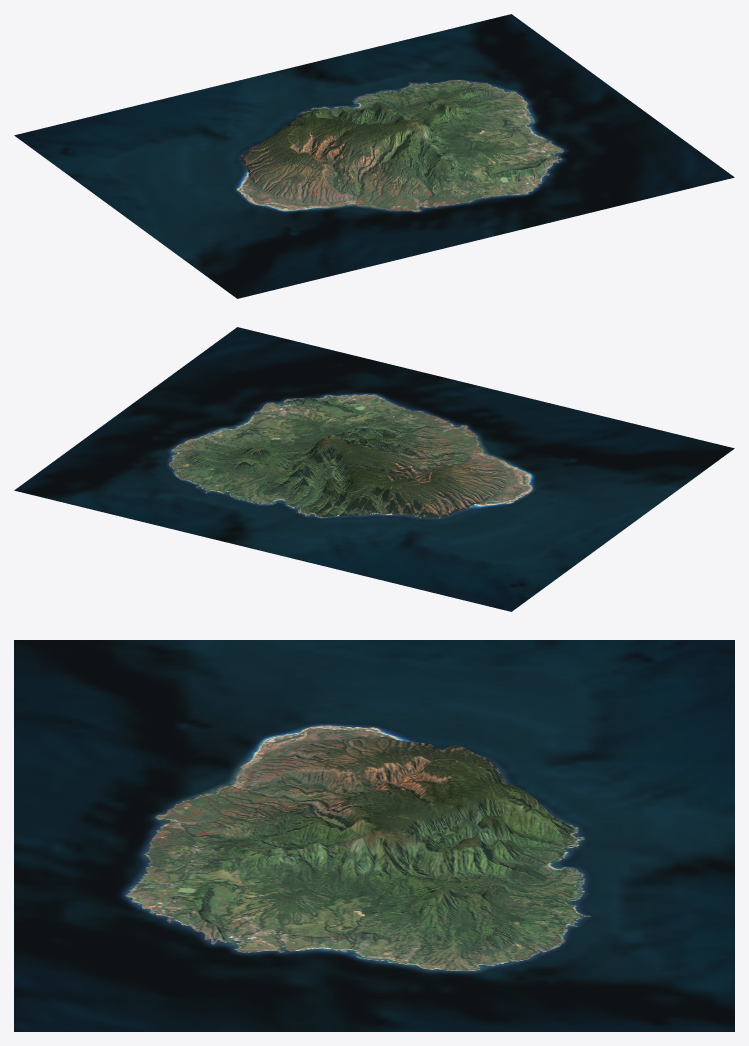
Rendered from kauai_island_hawaii_-_pacific_ocean.glb.
The picture shows the model from 3 angles, top to bottom: view 1: azimuth 30°, elevation 25°; view 2: azimuth 150°, elevation 25°; view 3: azimuth 270°, elevation 25°; orthographic projection. The views are drawn at different scales.
Visible parts, largest first — view 1: skfb_offset; view 2: skfb_offset; view 3: skfb_offset.
Part boxes in pixels (x1=…): skfb_offset: x1=14, y1=14, x2=734, y2=298; skfb_offset: x1=14, y1=327, x2=734, y2=611; skfb_offset: x1=14, y1=640, x2=734, y2=1031.
Size of the model in its own units: 88055 by 3786 by 68488.
1 material, 1 textured.
